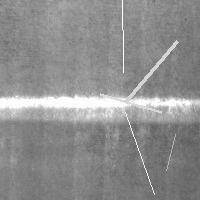scratches: (1, 94, 200, 122), (120, 36, 182, 107), (120, 107, 159, 199), (95, 89, 166, 117), (161, 129, 180, 175), (117, 0, 128, 77)
